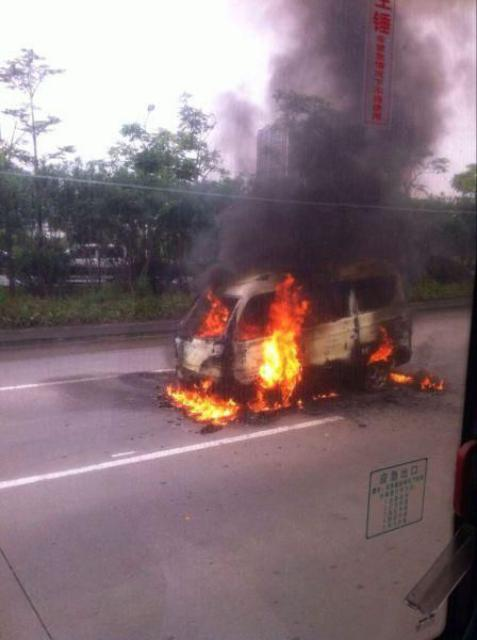fire: (259, 292, 302, 384), (186, 388, 237, 424), (199, 292, 228, 336), (158, 381, 187, 403), (244, 389, 267, 411), (271, 386, 291, 408), (420, 373, 443, 389), (388, 371, 416, 383), (379, 326, 393, 346), (366, 345, 392, 355)
